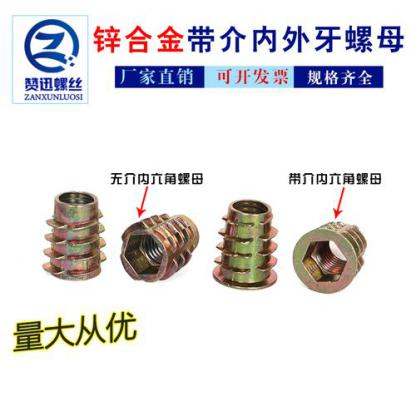FOD: (210, 198, 283, 292), (38, 189, 108, 280), (117, 210, 202, 283), (289, 218, 372, 292)
